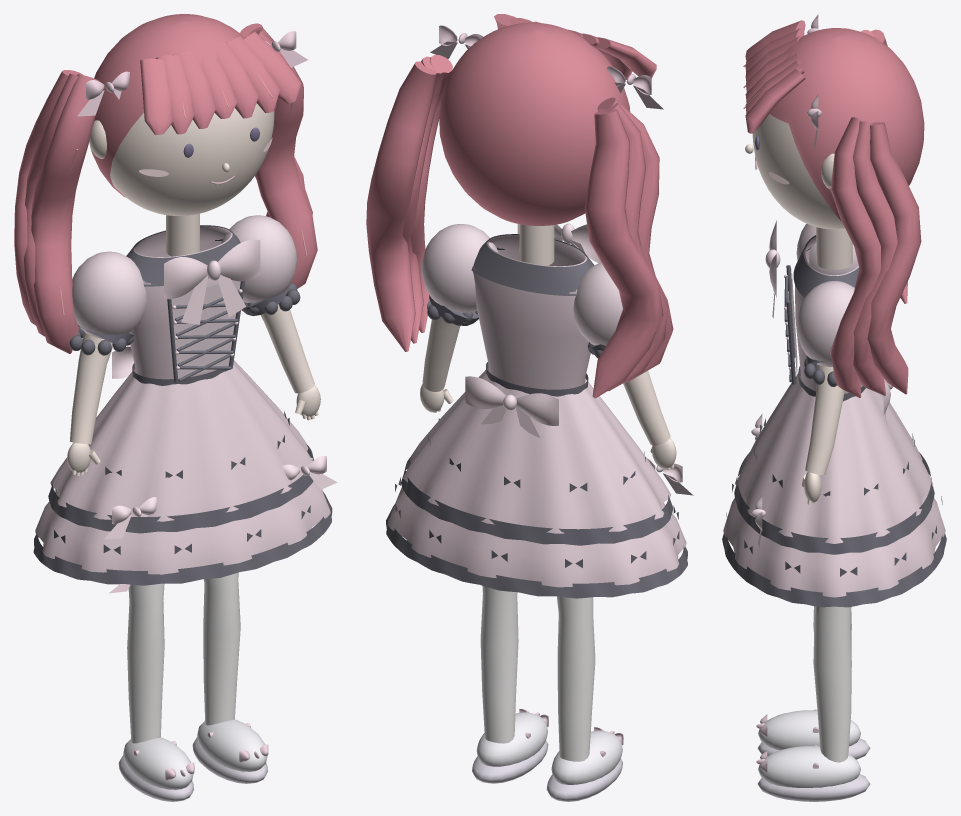
The model's file is 02_pink_black_redtwintails.glb.
The picture shows the model from 3 angles, left to right: view 1: azimuth 30°, elevation 25°; view 2: azimuth 150°, elevation 25°; view 3: azimuth 270°, elevation 25°; orthographic projection. The views are drawn at different scales.
Visible parts, largest first — view 1: Pink and black dress / TWIN TAILS; view 2: Pink and black dress / TWIN TAILS; view 3: Pink and black dress / TWIN TAILS.
Part boxes in pixels (<box>): Pink and black dress / TWIN TAILS: <box>14,14,337,801</box>; Pink and black dress / TWIN TAILS: <box>366,14,693,801</box>; Pink and black dress / TWIN TAILS: <box>722,14,946,801</box>.
Bounding box in the file's own units: 0.5112 × 1.27 × 0.3483.
